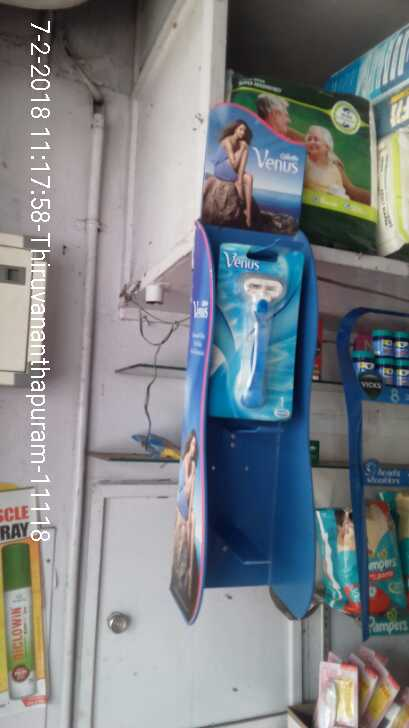venus: (218, 244, 303, 416)
